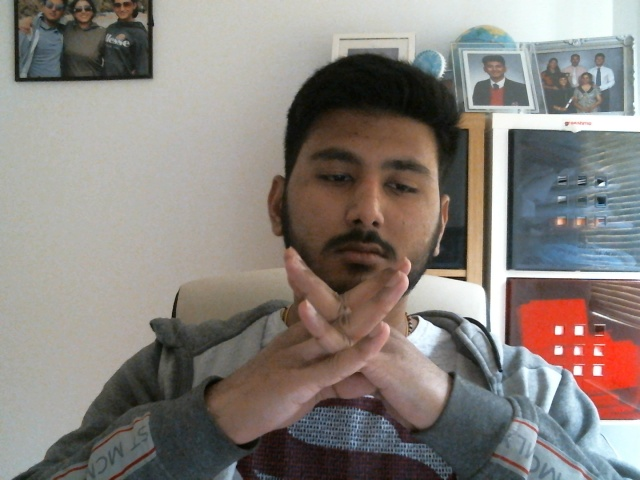how: (259, 246, 425, 391)
